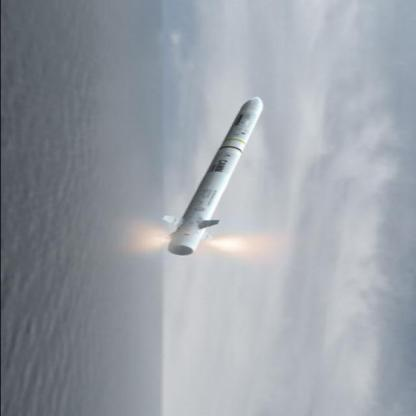MIL_TBM: (156, 96, 268, 259)
